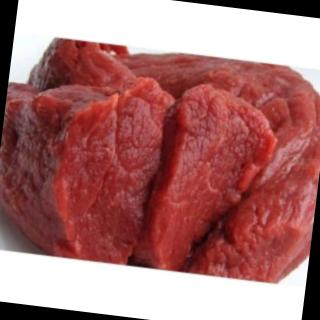Daging Sapi: (1, 32, 320, 288), (1, 83, 155, 265), (161, 83, 280, 276)
